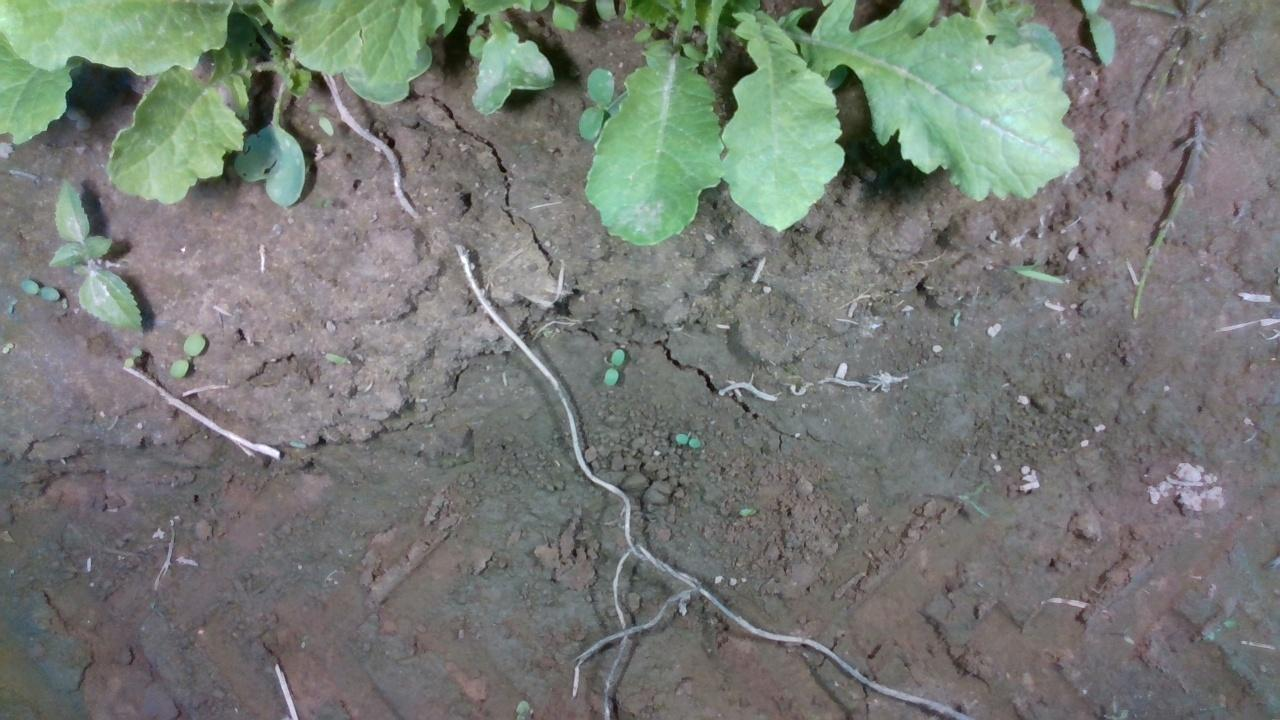weed: (4, 296, 17, 315)
